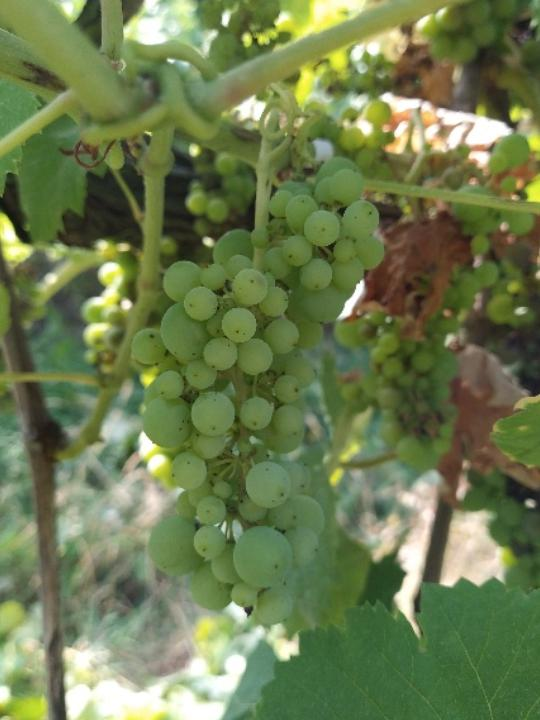grape: (128, 159, 389, 632)
